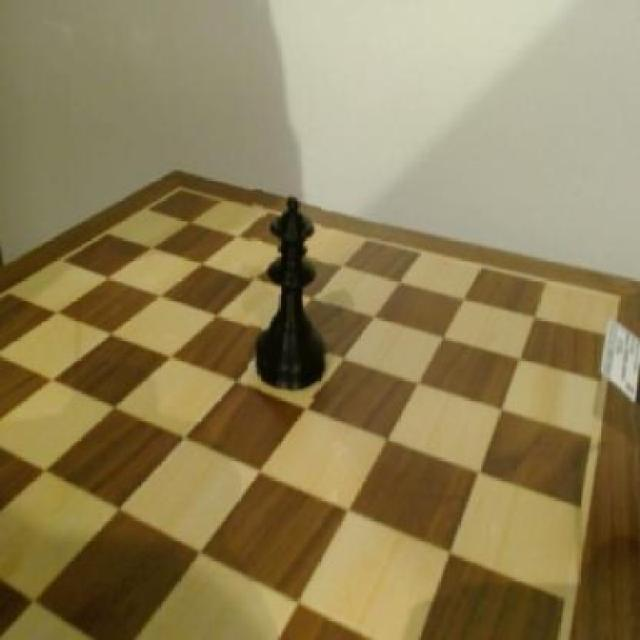black-pawn: (249, 191, 332, 398)
